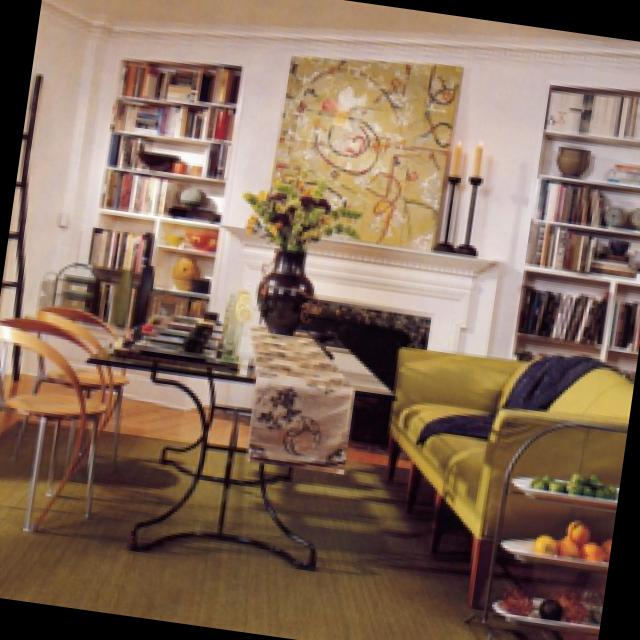blanket: (419, 351, 607, 441)
books crop: (520, 284, 609, 340), (125, 60, 242, 99), (121, 101, 236, 136), (552, 94, 640, 136), (530, 222, 597, 273), (93, 226, 158, 268), (544, 181, 612, 221), (106, 168, 173, 208), (596, 235, 640, 277), (112, 130, 151, 167), (615, 300, 640, 349), (207, 141, 231, 176)
bookshelves: (88, 61, 247, 320), (517, 88, 640, 374)
bouquet: (250, 176, 365, 332)
bowl -X: (140, 148, 184, 166), (189, 228, 221, 247), (166, 230, 188, 243)
candles: (431, 140, 486, 252)
ceiling beam: (52, 0, 640, 49)
chair -occluded-: (0, 315, 108, 528), (38, 304, 127, 391)
cup and saucer: (185, 334, 211, 350), (197, 318, 216, 333)
fireplace mantle: (210, 223, 497, 384)
fruit: (463, 418, 629, 640)
fruit basket: (541, 470, 620, 495)
fruit stand: (497, 594, 603, 627)
fruits bowl: (538, 518, 613, 558)
painting crop: (268, 54, 467, 248)
plate food: (516, 474, 618, 508), (503, 536, 611, 568), (149, 333, 184, 346), (170, 319, 203, 331)
rack: (1, 69, 50, 315), (55, 257, 107, 308)
rug -partially obscured-: (0, 420, 567, 640)
sofa bed: (386, 346, 635, 608)
statue: (168, 181, 222, 218)
table -X: (85, 315, 403, 567)
table setting for dinner: (251, 325, 358, 473)
vase -X: (225, 288, 256, 343), (559, 145, 591, 177), (604, 204, 634, 225)
vases: (171, 257, 215, 289)
